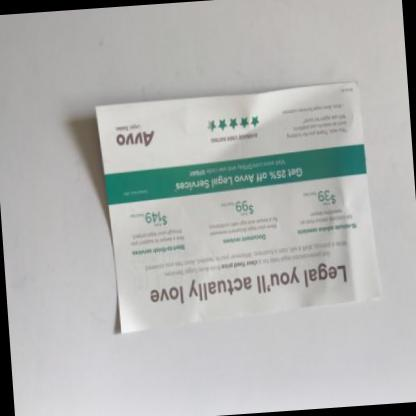Paper: (95, 81, 378, 331)
